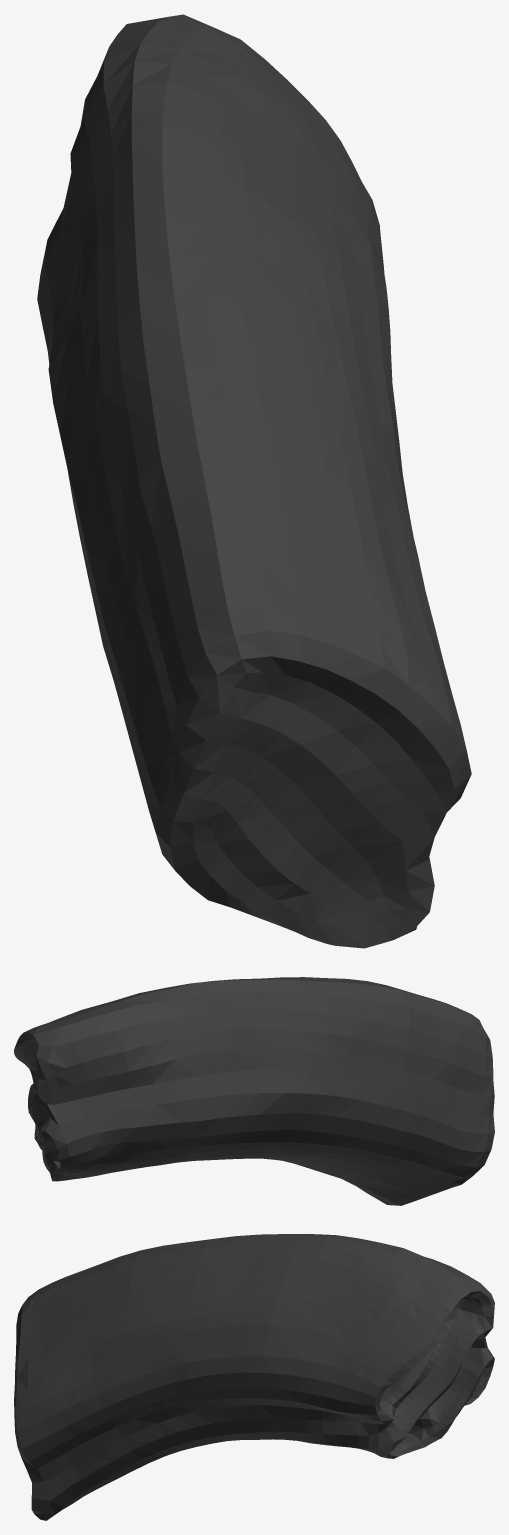
3 views of the same model, one above another, from view 1: azimuth 30°, elevation 25°; view 2: azimuth 150°, elevation 25°; view 3: azimuth 270°, elevation 25° (orthographic). The views are drawn at different scales.
Parts seen in each view (by area): view 1: world; view 2: world; view 3: world.
Part boxes in pixels (left/top/right/bottom): world: left=37, top=14, right=471, bottom=948; world: left=14, top=977, right=494, bottom=1205; world: left=14, top=1234, right=494, bottom=1520.
Bounding box in the file's own units: 0.241 × 0.2571 × 0.3739.
1 material, 1 textured.
